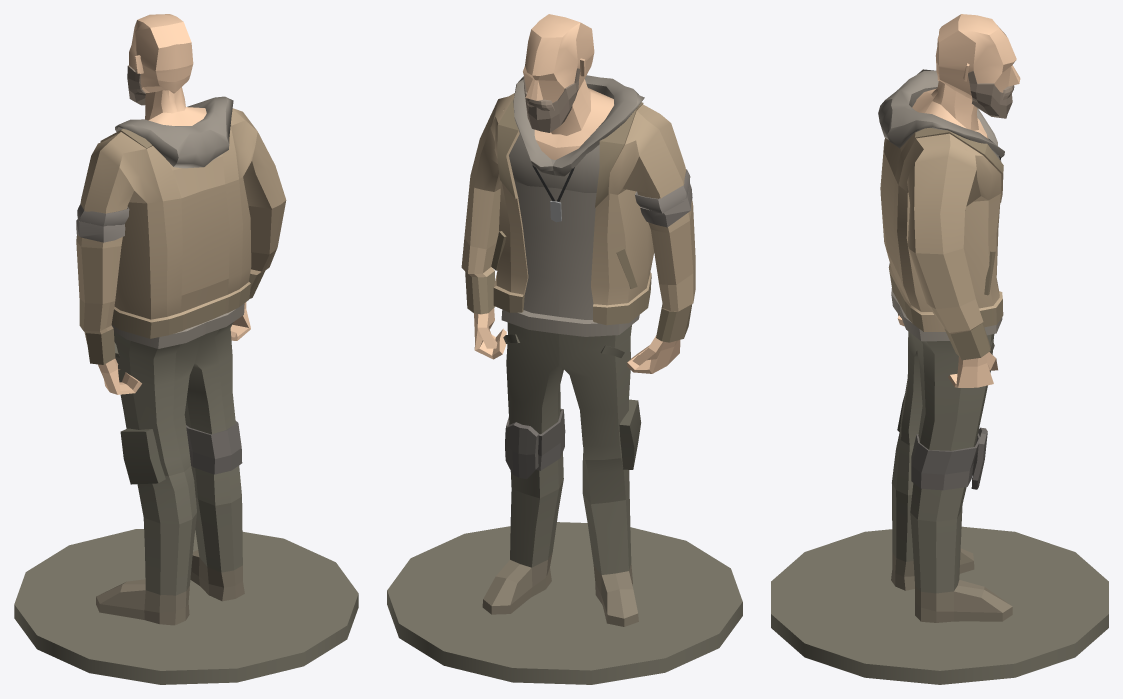
The model's file is survivor_def.fbx.
The picture shows the model from 3 angles, left to right: view 1: azimuth 30°, elevation 25°; view 2: azimuth 150°, elevation 25°; view 3: azimuth 270°, elevation 25°; orthographic projection. The views are drawn at different scales.
Visible parts, largest first — view 1: survivor_def; view 2: survivor_def; view 3: survivor_def.
Boxes of the visible parts, x1=… form: survivor_def: x1=14, y1=14, x2=358, y2=684; survivor_def: x1=387, y1=14, x2=742, y2=684; survivor_def: x1=771, y1=14, x2=1108, y2=684.
Size of the model in its own units: 884 by 1652 by 862.
